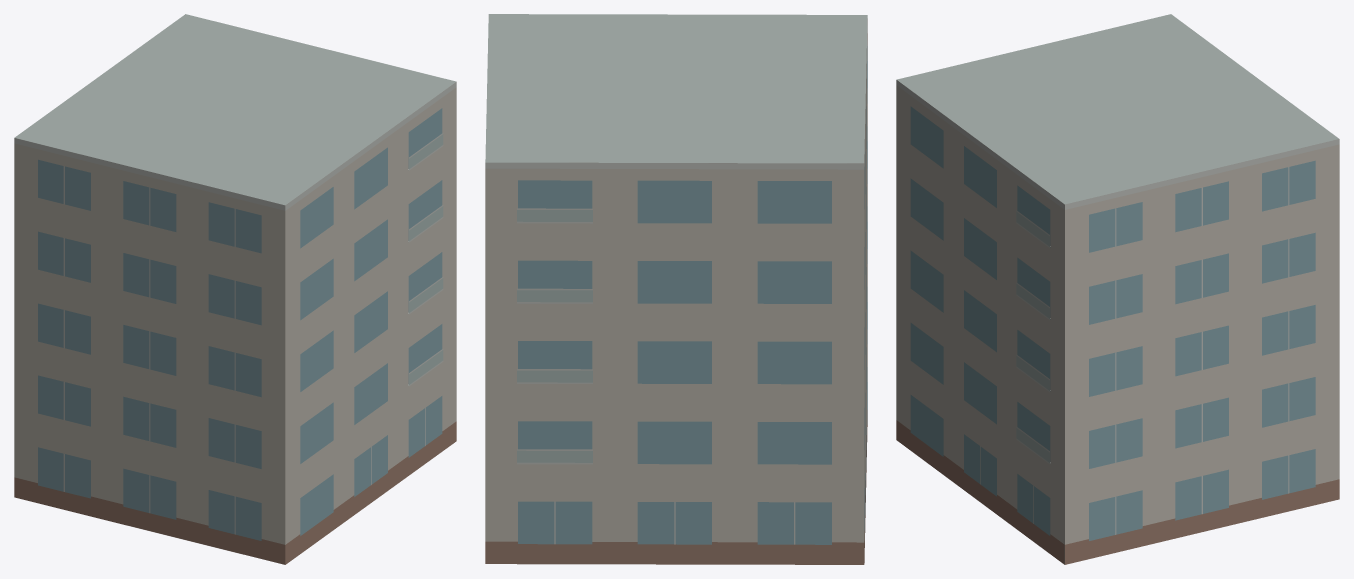
Rendered from survey-upis-32749250.glb.
The picture shows the model from 3 angles, left to right: view 1: azimuth 30°, elevation 25°; view 2: azimuth 150°, elevation 25°; view 3: azimuth 270°, elevation 25°; orthographic projection. The views are drawn at different scales.
Visible parts, largest first — view 1: survey-upis-32749250.tmp; view 2: survey-upis-32749250.tmp; view 3: survey-upis-32749250.tmp.
Part boxes in pixels (<box>): survey-upis-32749250.tmp: <box>14,14,456,564</box>; survey-upis-32749250.tmp: <box>485,14,867,564</box>; survey-upis-32749250.tmp: <box>896,14,1339,564</box>.
Bounding box in the file's own units: 18.14 × 16 × 17.84.
